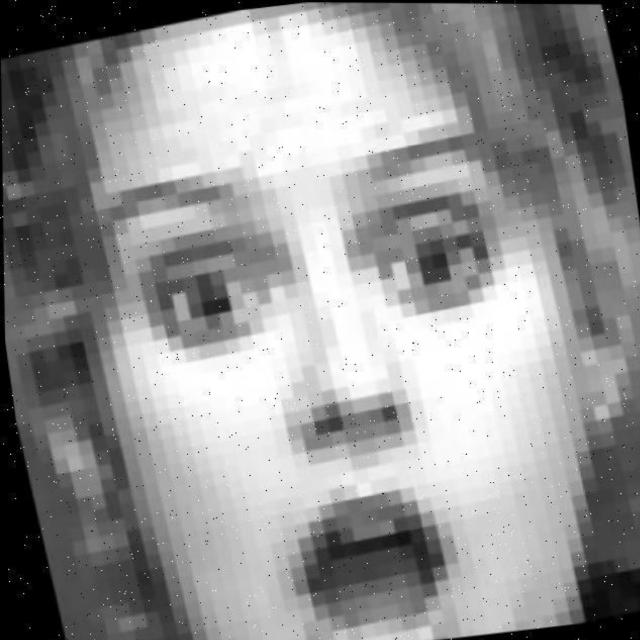Surprised: (38, 131, 640, 640)
